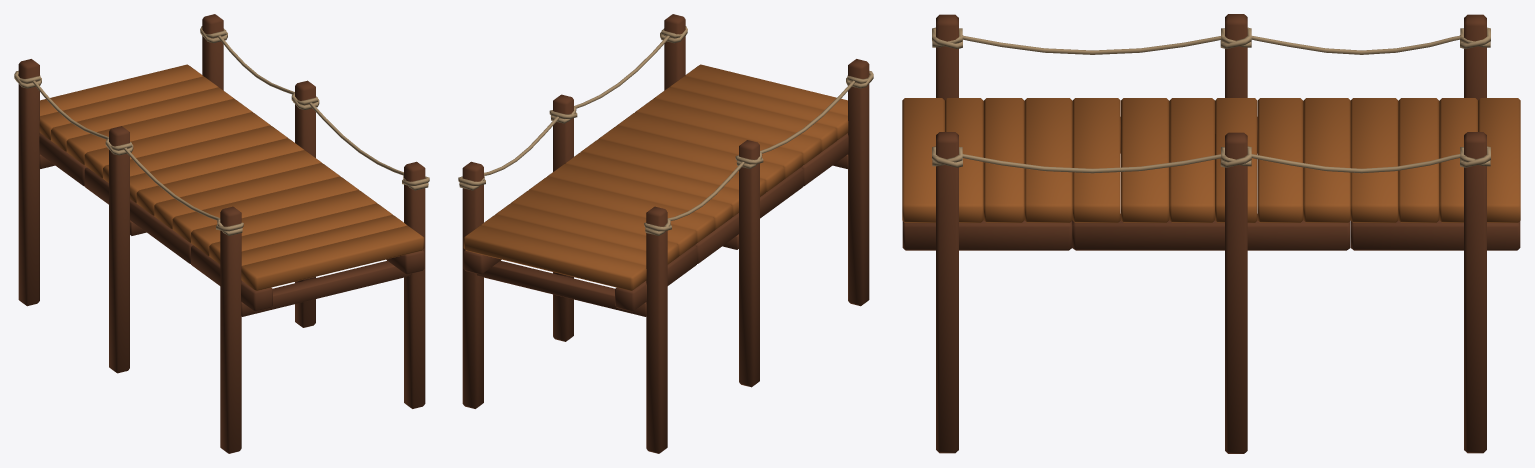
Rendered from bridge.fbx.
The picture shows the model from 3 angles, left to right: view 1: azimuth 30°, elevation 25°; view 2: azimuth 150°, elevation 25°; view 3: azimuth 270°, elevation 25°; orthographic projection. The views are drawn at different scales.
Parts seen in each view (by area): view 1: bridge_middle, bridge_benigning, bridge_end; view 2: bridge_end, bridge_middle, bridge_benigning; view 3: bridge_middle, bridge_end, bridge_benigning.
Part boxes in pixels (x1=…): bridge_middle: x1=84, y1=80, x2=403, y2=373; bridge_benigning: x1=191, y1=161, x2=429, y2=453; bridge_end: x1=14, y1=14, x2=294, y2=306; bridge_end: x1=458, y1=116, x2=744, y2=453; bridge_middle: x1=529, y1=35, x2=855, y2=387; bridge_benigning: x1=635, y1=14, x2=873, y2=306; bridge_middle: x1=962, y1=14, x2=1350, y2=453; bridge_end: x1=1251, y1=14, x2=1520, y2=453; bridge_benigning: x1=902, y1=14, x2=1072, y2=453.
Size of the model in its own units: 1075 by 1196 by 2131.
